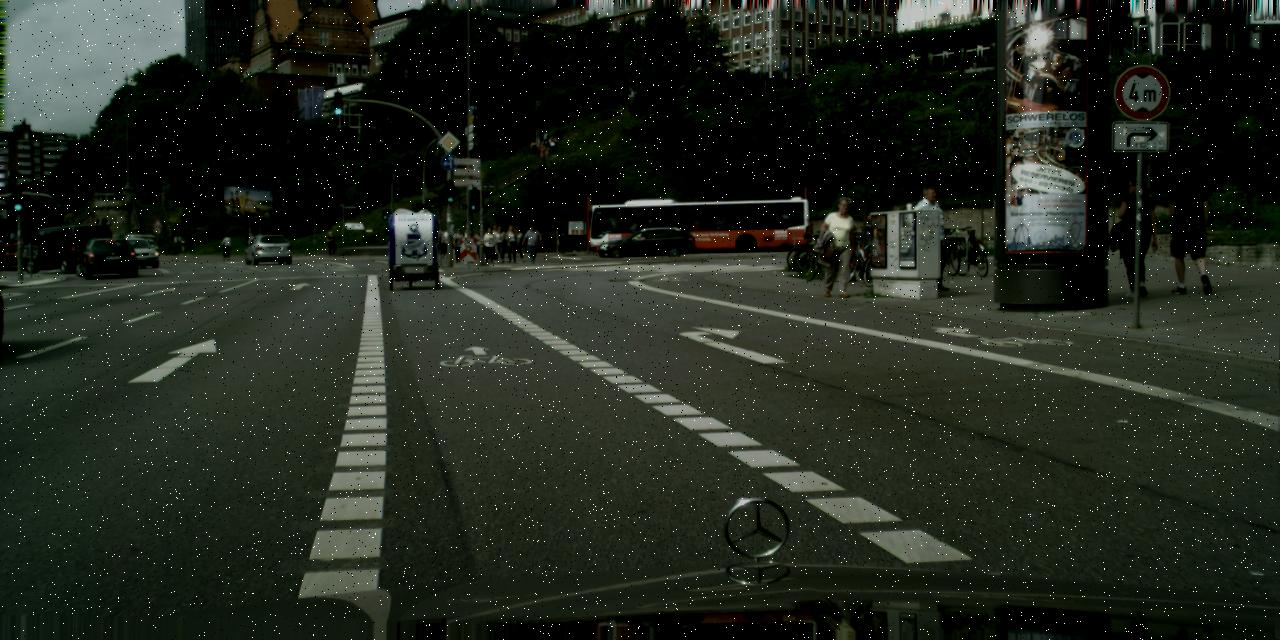ped: (1164, 166, 1216, 294), (1110, 177, 1159, 296), (909, 185, 952, 290), (818, 195, 858, 298), (864, 205, 884, 255), (525, 225, 540, 262), (504, 225, 518, 263), (482, 228, 497, 262), (492, 226, 506, 262), (475, 226, 488, 260), (511, 228, 524, 260), (441, 226, 454, 258), (452, 228, 464, 260), (434, 228, 446, 258), (490, 224, 500, 253), (326, 230, 336, 255), (462, 228, 471, 251), (222, 233, 230, 254), (549, 135, 557, 156), (248, 233, 256, 253), (628, 87, 636, 106), (529, 138, 536, 158), (542, 129, 548, 145)
